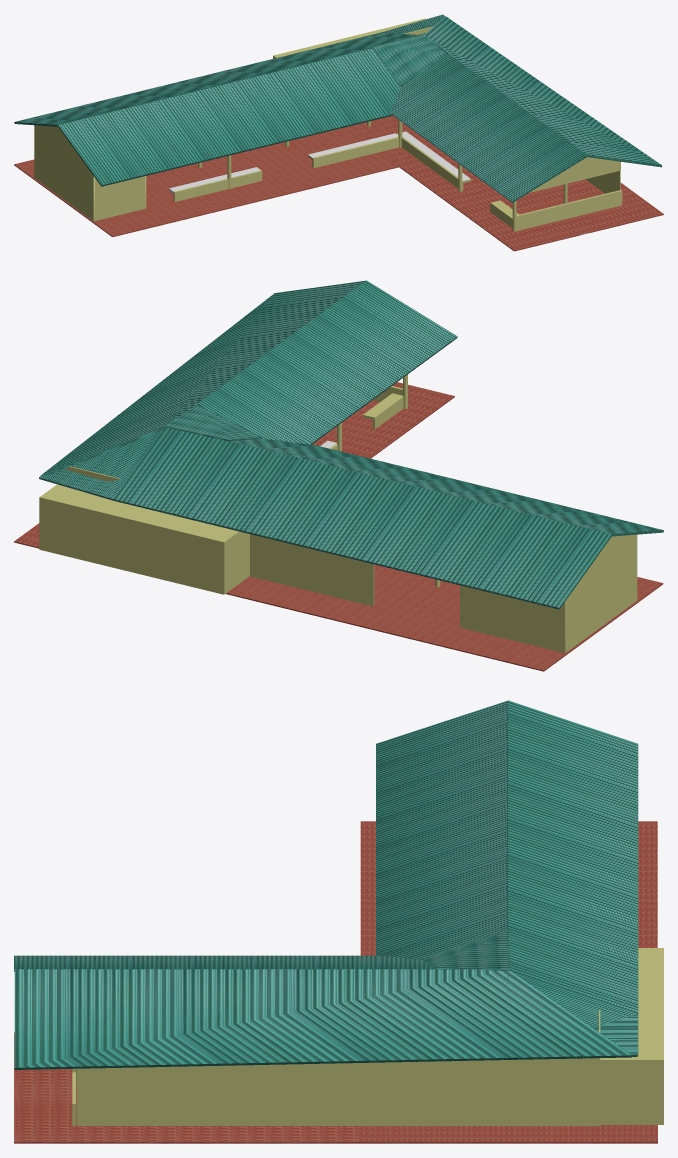
The model's file is mattaCanteen.fbx.
3 renders of one model, top to bottom at view 1: azimuth 30°, elevation 25°; view 2: azimuth 150°, elevation 25°; view 3: azimuth 270°, elevation 25°, orthographic. The views are drawn at different scales.
Parts seen in each view (by area): view 1: pCube32, pCube33, pCube29, pCube30, pCube34, pCube31, pCube3, pCube35, pCube44, pCube2, pCube41, pCube42 (+6 smaller); view 2: pCube31, pCube33, pCube52, pCube29, pCube34, pCube51, pCube32, pCube3, pCube30, pCube35, pCube43; view 3: pCube34, pCube31, pCube5, pCube32, pCube30, pCube29, pCube52, pCube33, pCube35.
Part boxes in pixels (x1,y1,x2,y2): pCube32: [58, 48, 400, 186]; pCube33: [390, 53, 587, 202]; pCube29: [14, 116, 445, 237]; pCube30: [346, 116, 663, 251]; pCube34: [424, 16, 662, 167]; pCube31: [14, 14, 445, 126]; pCube3: [34, 125, 94, 221]; pCube35: [372, 34, 446, 86]; pCube44: [516, 190, 622, 230]; pCube2: [95, 176, 145, 220]; pCube41: [308, 133, 398, 168]; pCube42: [396, 131, 471, 190]; pCube31: [39, 426, 611, 609]; pCube33: [197, 280, 457, 444]; pCube52: [39, 484, 249, 594]; pCube29: [226, 564, 663, 671]; pCube34: [40, 281, 364, 475]; pCube51: [65, 466, 564, 653]; pCube32: [230, 438, 663, 536]; pCube3: [565, 534, 637, 653]; pCube30: [14, 382, 454, 548]; pCube35: [165, 405, 262, 441]; pCube43: [363, 393, 403, 429]; pCube34: [14, 969, 631, 1069]; pCube31: [507, 700, 638, 1056]; pCube5: [76, 1058, 598, 1125]; pCube32: [376, 701, 507, 959]; pCube30: [14, 1032, 657, 1143]; pCube29: [360, 821, 657, 1142]; pCube52: [600, 948, 663, 1124]; pCube33: [14, 955, 432, 971]; pCube35: [423, 930, 510, 970].
Size of the model in its own units: 137 by 24.47 by 116.
5 materials, 2 textured.
